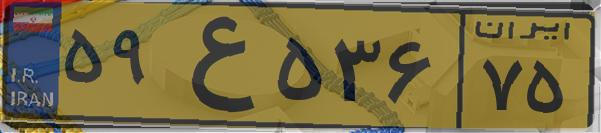3: (330, 28, 385, 110)
5: (270, 28, 330, 110), (57, 26, 110, 100), (525, 38, 570, 115)
6: (385, 28, 445, 110)
7: (475, 38, 525, 113)
9: (110, 28, 158, 98)
ع: (158, 12, 270, 120)
